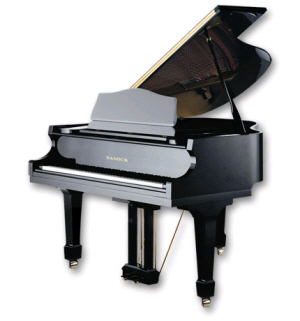GrandPiano: (42, 71, 267, 279)
